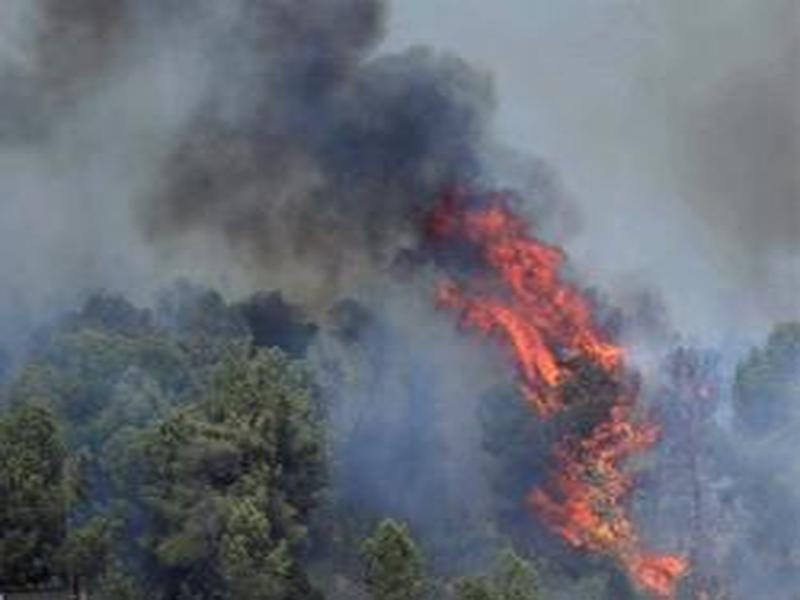FIRE: (386, 193, 714, 600)
